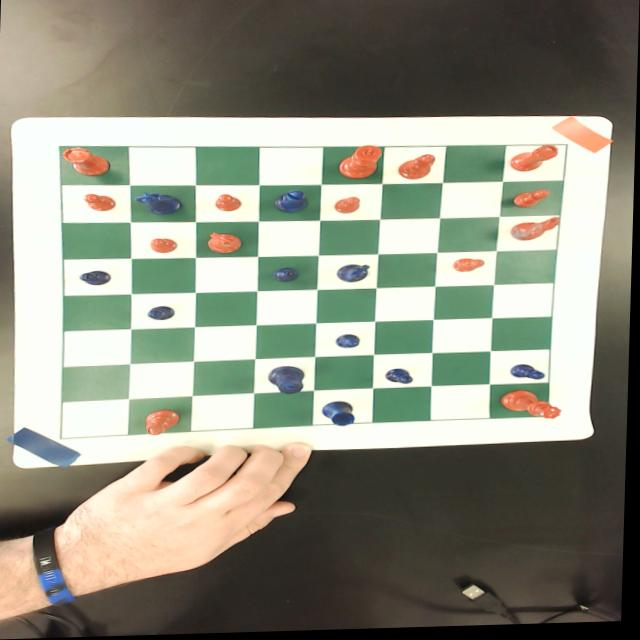B: (274, 191, 309, 216)
K: (268, 367, 306, 396)
N: (135, 191, 185, 216), (337, 265, 373, 286)
P: (512, 367, 549, 384), (78, 271, 113, 287), (386, 371, 417, 387), (274, 268, 302, 285), (148, 307, 177, 321), (336, 336, 363, 351)
R: (322, 403, 358, 429)
b: (144, 411, 183, 436), (398, 157, 436, 182)
k: (338, 148, 382, 182)
n: (510, 220, 561, 244), (205, 233, 243, 256)
p: (513, 192, 551, 212), (83, 194, 118, 212), (335, 198, 363, 217), (454, 260, 486, 276), (216, 195, 244, 213), (150, 238, 179, 254)
q: (501, 392, 564, 424)
r: (508, 147, 559, 176), (62, 147, 111, 177)
